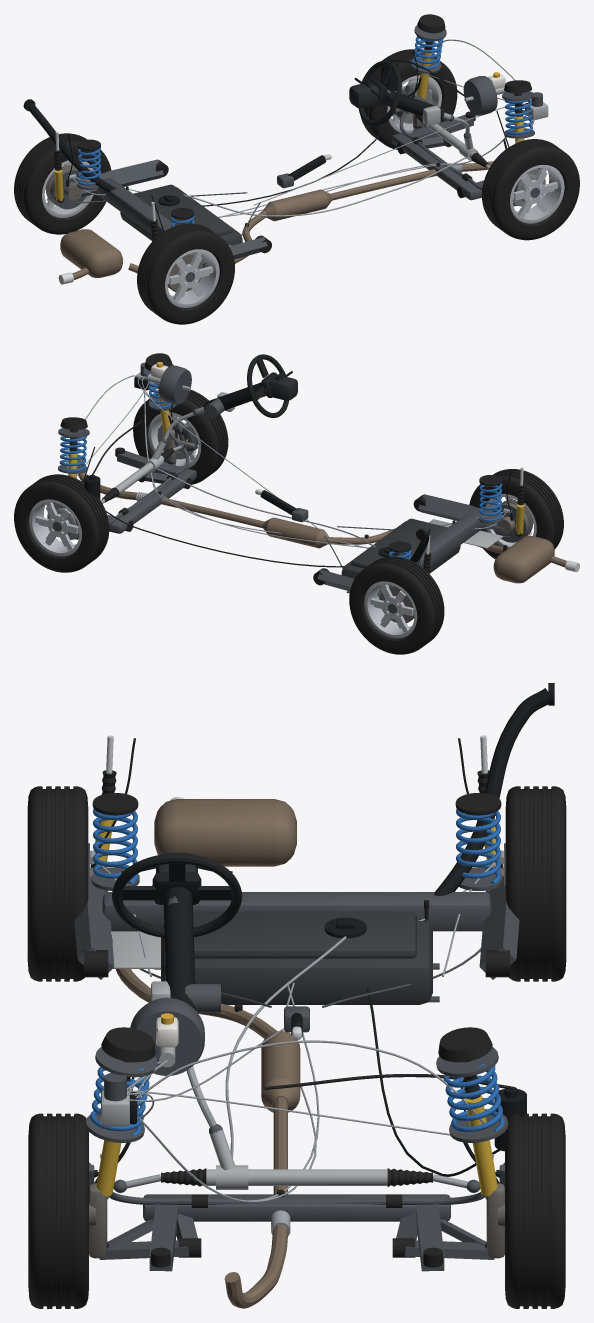
File: chasis.glb
3 views of the same model, one above another, from view 1: azimuth 30°, elevation 25°; view 2: azimuth 150°, elevation 25°; view 3: azimuth 270°, elevation 25° (orthographic). The views are drawn at different scales.
Parts seen in each view (by area): view 1: rueda_tra_der, rueda_del_der, escape, rueda_tra_izq, tanque, eje_torsion, rueda_del_izq, bastidor, amortiguador_del_izq, columna_eps, amortiguador_del_der, servofreno (+10 smaller); view 2: rueda_tra_izq, rueda_del_izq, escape, rueda_del_der, eje_torsion, rueda_tra_der, tanque, bastidor, columna_eps, amortiguador_del_izq, servofreno, amortiguador_tra_der (+11 smaller); view 3: tanque, escape, eje_torsion, rueda_del_der, rueda_del_izq, rueda_tra_der, rueda_tra_izq, bastidor, amortiguador_del_izq, amortiguador_del_der, cremallera, volante (+10 smaller).
Boxes of the visible parts, left/top/right/bottom form: rueda_tra_der: left=137, top=223, right=234, bottom=324; rueda_del_der: left=482, top=139, right=579, bottom=240; escape: left=58, top=161, right=493, bottom=284; rueda_tra_izq: left=14, top=133, right=111, bottom=234; tanque: left=23, top=99, right=465, bottom=245; eje_torsion: left=64, top=159, right=271, bottom=267; rueda_del_izq: left=360, top=49, right=457, bottom=149; bastidor: left=392, top=111, right=539, bottom=200; amortiguador_del_izq: left=395, top=14, right=446, bottom=128; columna_eps: left=349, top=78, right=470, bottom=138; amortiguador_del_der: left=502, top=80, right=534, bottom=142; servofreno: left=463, top=72, right=528, bottom=115; rueda_tra_izq: left=349, top=556, right=444, bottom=654; rueda_del_izq: left=14, top=474, right=109, bottom=572; escape: left=77, top=458, right=579, bottom=583; rueda_del_der: left=133, top=390, right=228, bottom=484; eje_torsion: left=313, top=494, right=515, bottom=599; rueda_tra_der: left=469, top=469, right=563, bottom=559; tanque: left=157, top=468, right=460, bottom=593; bastidor: left=53, top=447, right=196, bottom=533; columna_eps: left=161, top=371, right=297, bottom=443; amortiguador_del_izq: left=58, top=417, right=89, bottom=478; servofreno: left=143, top=362, right=191, bottom=404; amortiguador_tra_der: left=479, top=467, right=525, bottom=536; tanque: left=154, top=683, right=554, bottom=1157; escape: left=112, top=796, right=300, bottom=1308; eje_torsion: left=74, top=867, right=519, bottom=979; rueda_del_der: left=28, top=1113, right=88, bottom=1308; rueda_del_izq: left=505, top=1113, right=565, bottom=1308; rueda_tra_der: left=27, top=786, right=88, bottom=981; rueda_tra_izq: left=505, top=786, right=566, bottom=981; bastidor: left=143, top=1194, right=450, bottom=1271; amortiguador_del_izq: left=436, top=1027, right=508, bottom=1258; amortiguador_del_der: left=85, top=1027, right=157, bottom=1258; cremallera: left=113, top=1129, right=480, bottom=1192; volante: left=112, top=853, right=242, bottom=937.
Bounding box in the file's own units: 3.48 × 1.17 × 1.66.
